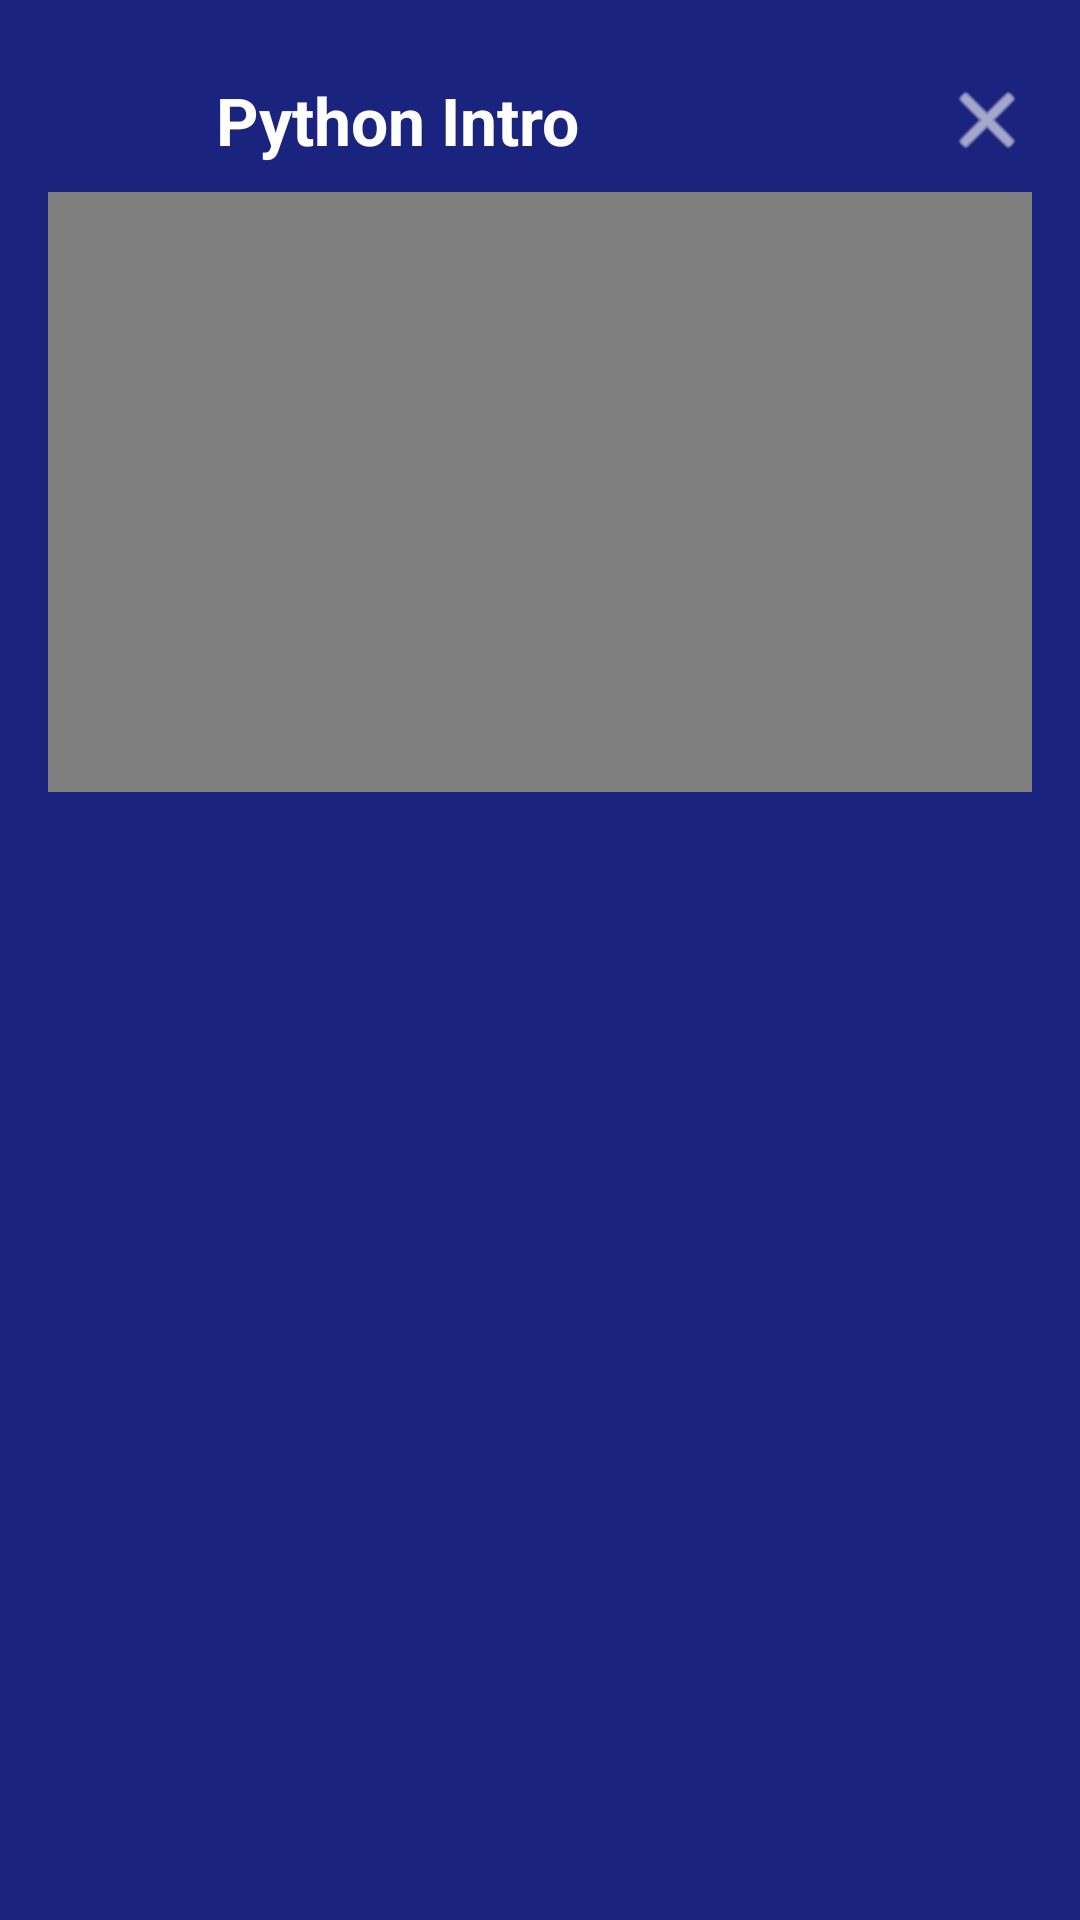

Where icons sit on this 1080 x 1920 app screen, as [x1,y1,x2,y2]:
close clear cancel: [959,92,1015,148]
